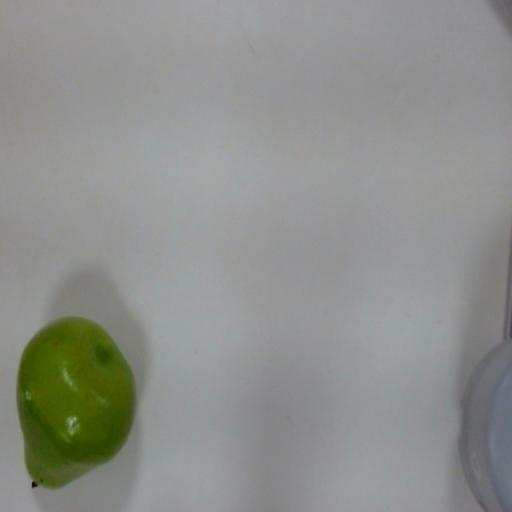Unripe: (15, 303, 148, 499)
